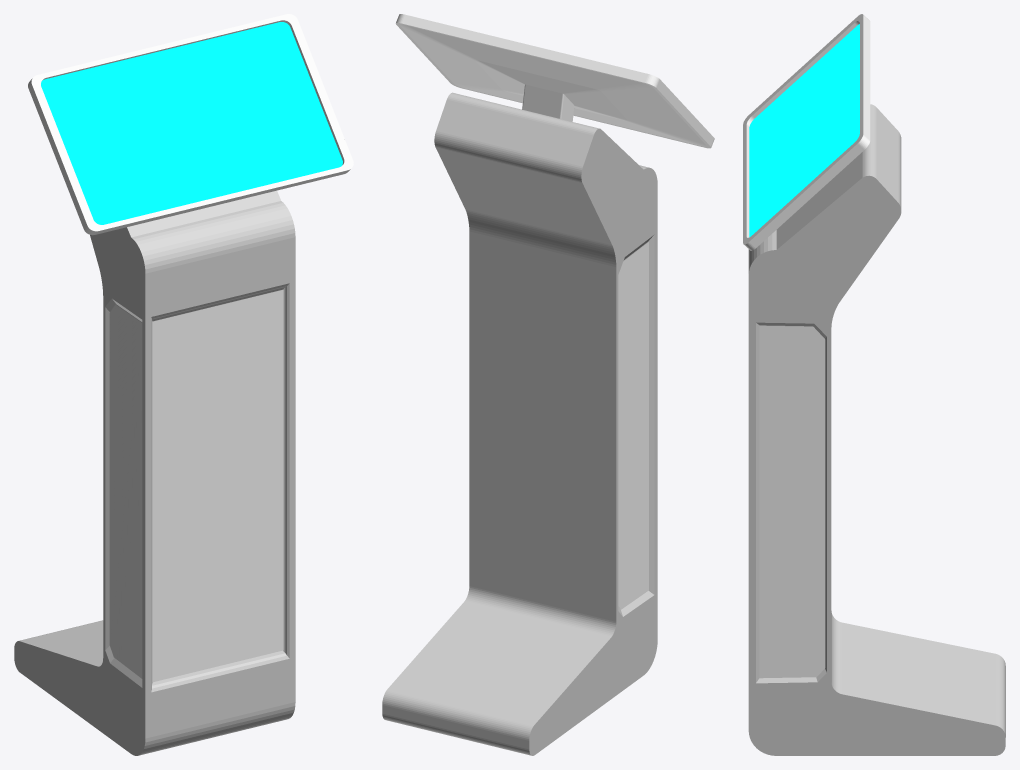
The model's file is TouchPanelMesh.fbx.
3 views of the same model, side by side, from view 1: azimuth 30°, elevation 25°; view 2: azimuth 150°, elevation 25°; view 3: azimuth 270°, elevation 25° (orthographic). The views are drawn at different scales.
Parts seen in each view (by area): view 1: Inside, Box, Screen, Panel; view 2: Box, Panel, Inside; view 3: Box, Inside, Screen, Panel.
Part boxes in pixels (left/top/right/bottom): Inside: left=109, top=290, right=283, bottom=682; Box: left=14, top=190, right=295, bottom=755; Screen: left=41, top=22, right=342, bottom=224; Panel: left=28, top=14, right=353, bottom=235; Box: left=382, top=92, right=657, bottom=755; Panel: left=395, top=14, right=714, bottom=148; Inside: left=618, top=242, right=648, bottom=609; Box: left=748, top=104, right=1005, bottom=755; Inside: left=759, top=325, right=825, bottom=678; Screen: left=749, top=24, right=859, bottom=237; Panel: left=743, top=14, right=870, bottom=250.
Bounding box in the file's own units: 53.87 × 128 × 47.05.
